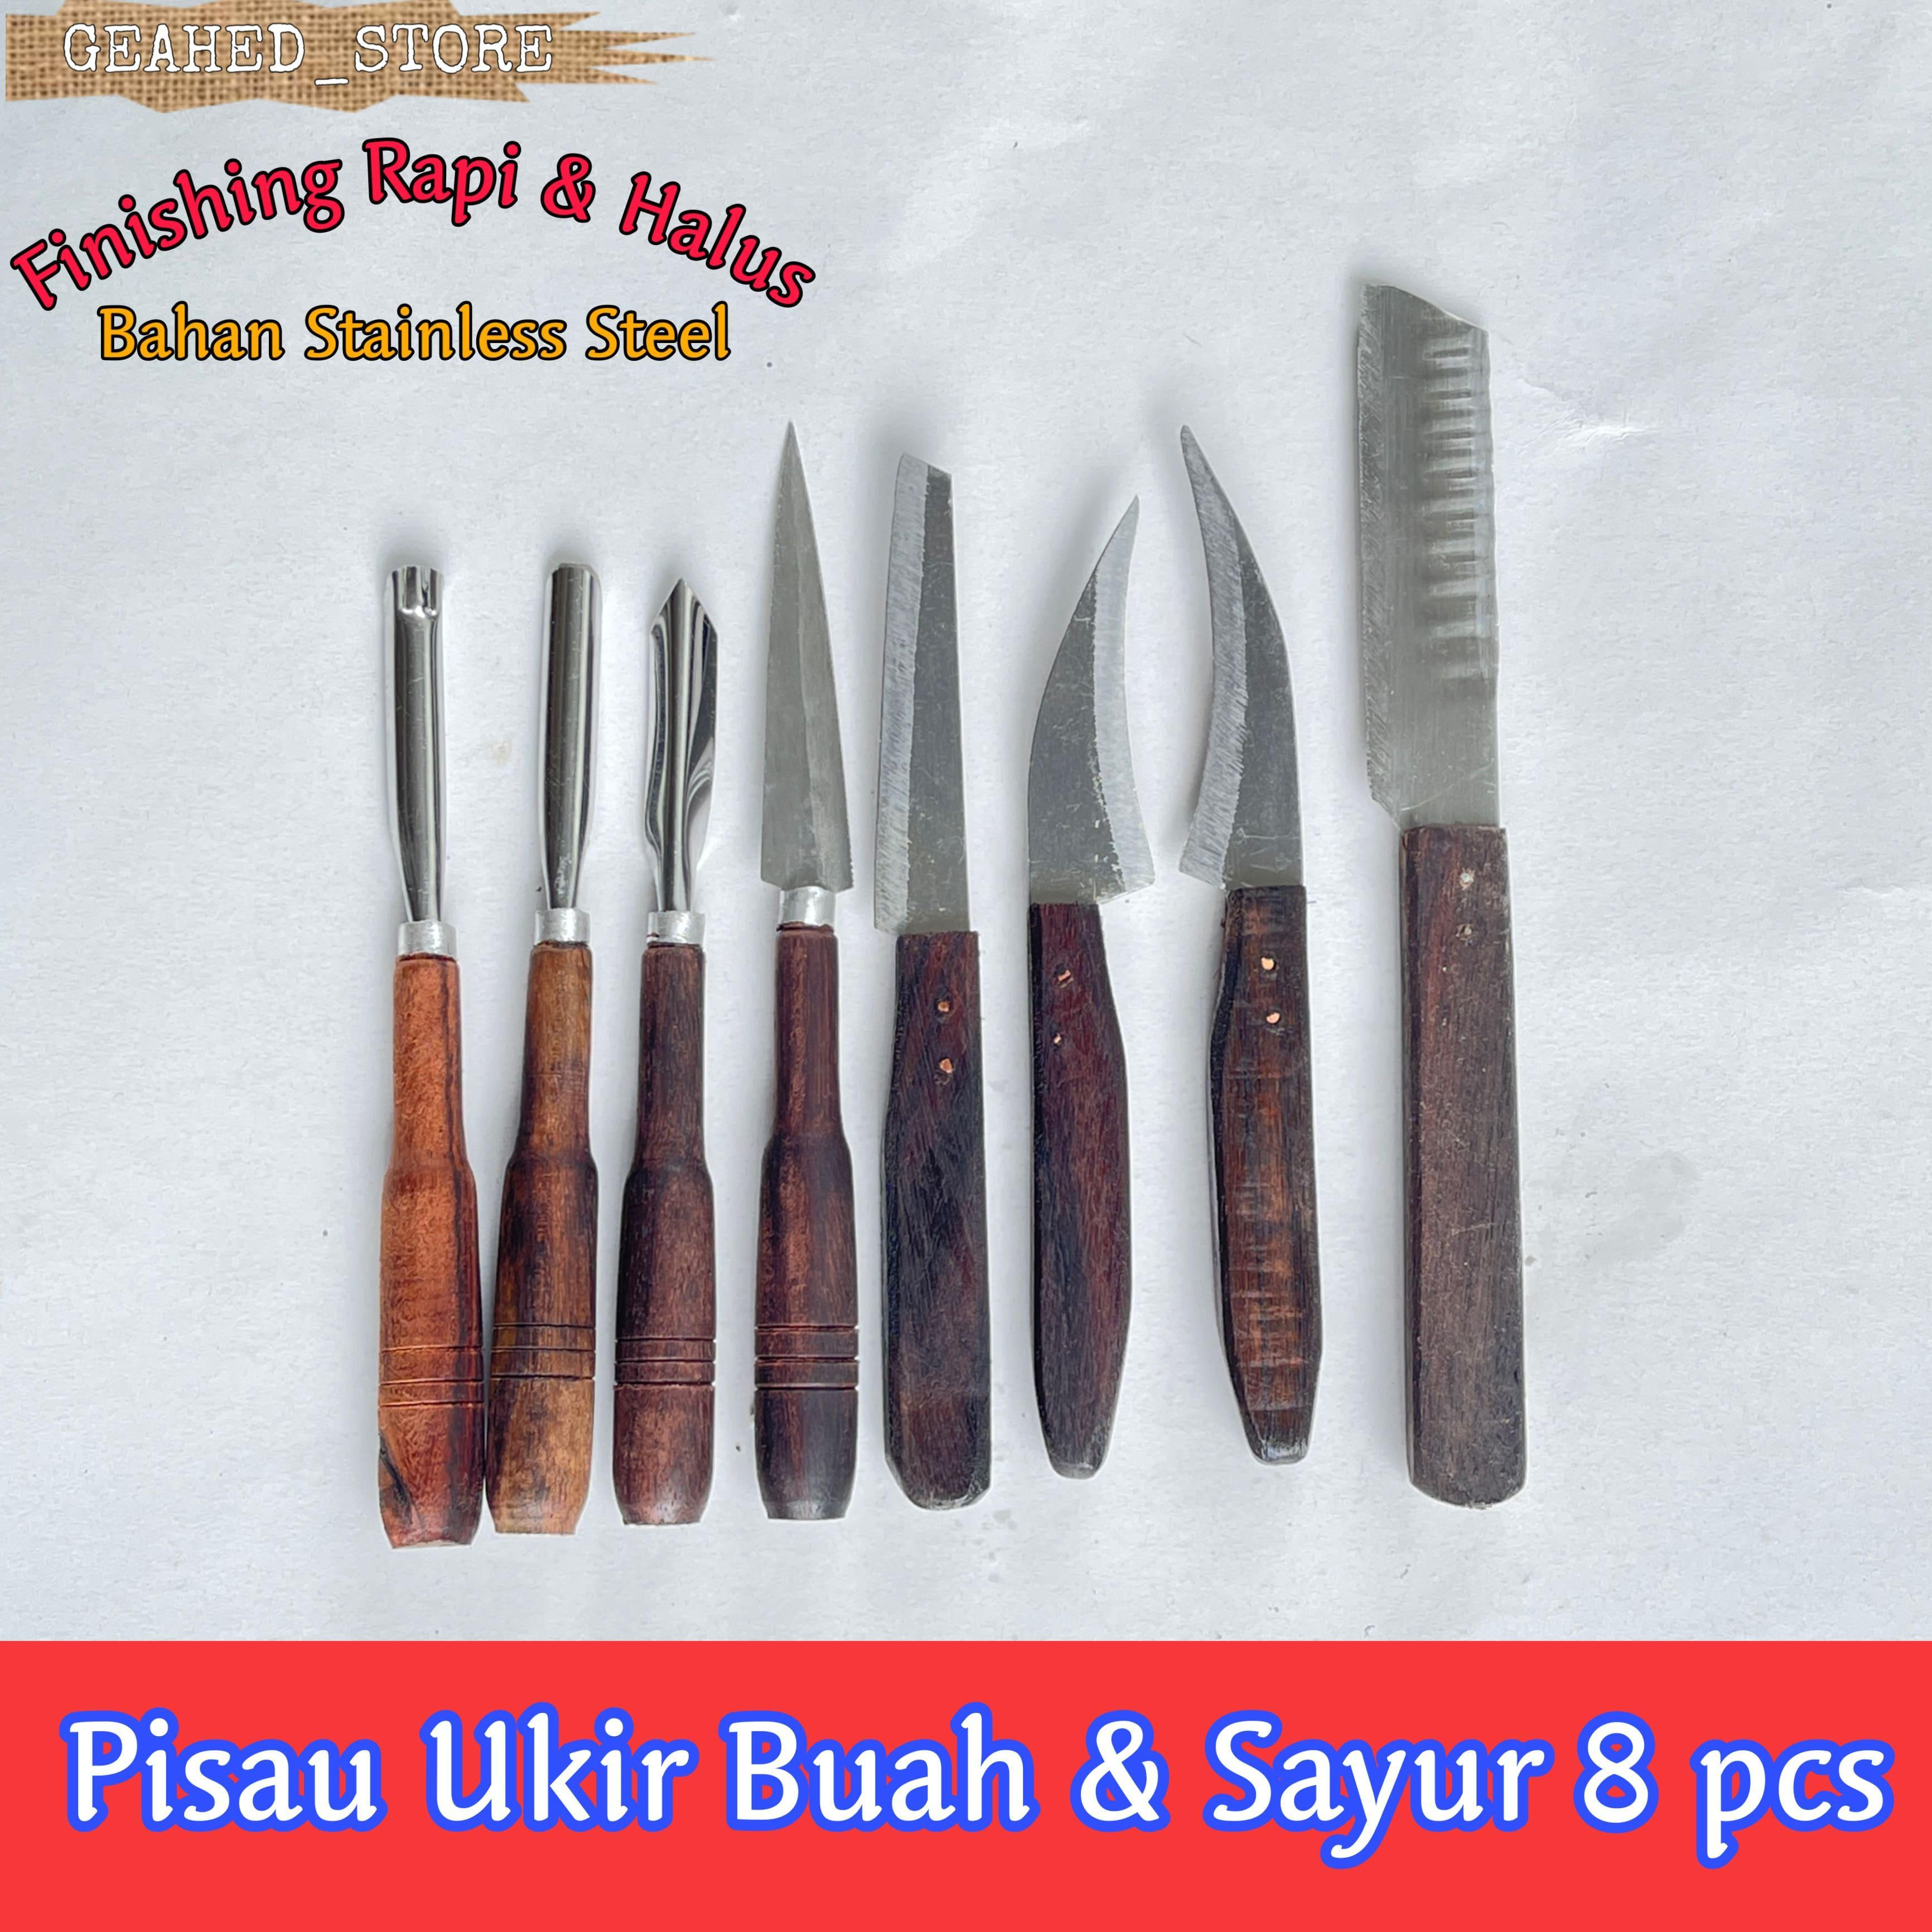faca: (1180, 430, 1320, 1461), (874, 456, 991, 1507), (1028, 501, 1152, 1477), (755, 428, 858, 1520)
facao: (1355, 285, 1525, 1506)
